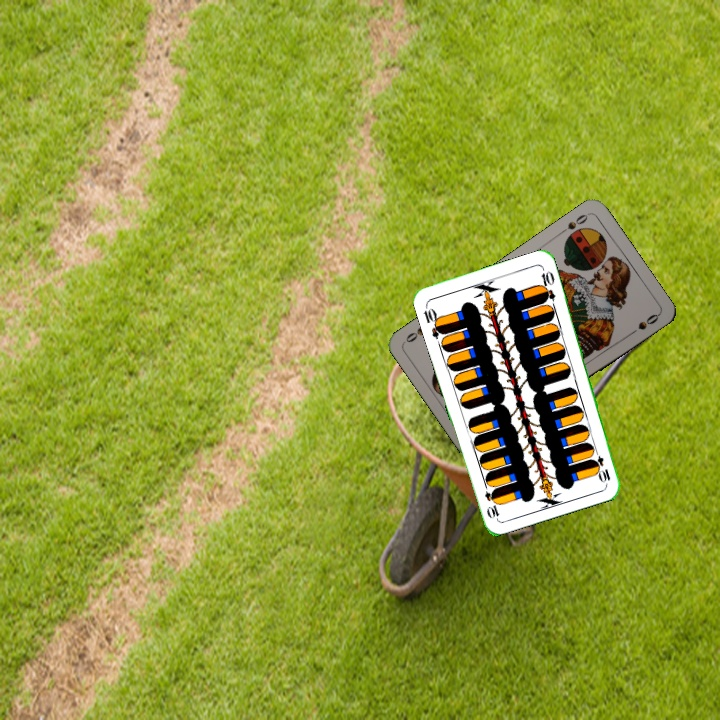E10: (419, 301, 447, 340), (589, 445, 613, 485)
SO: (556, 210, 592, 237)
